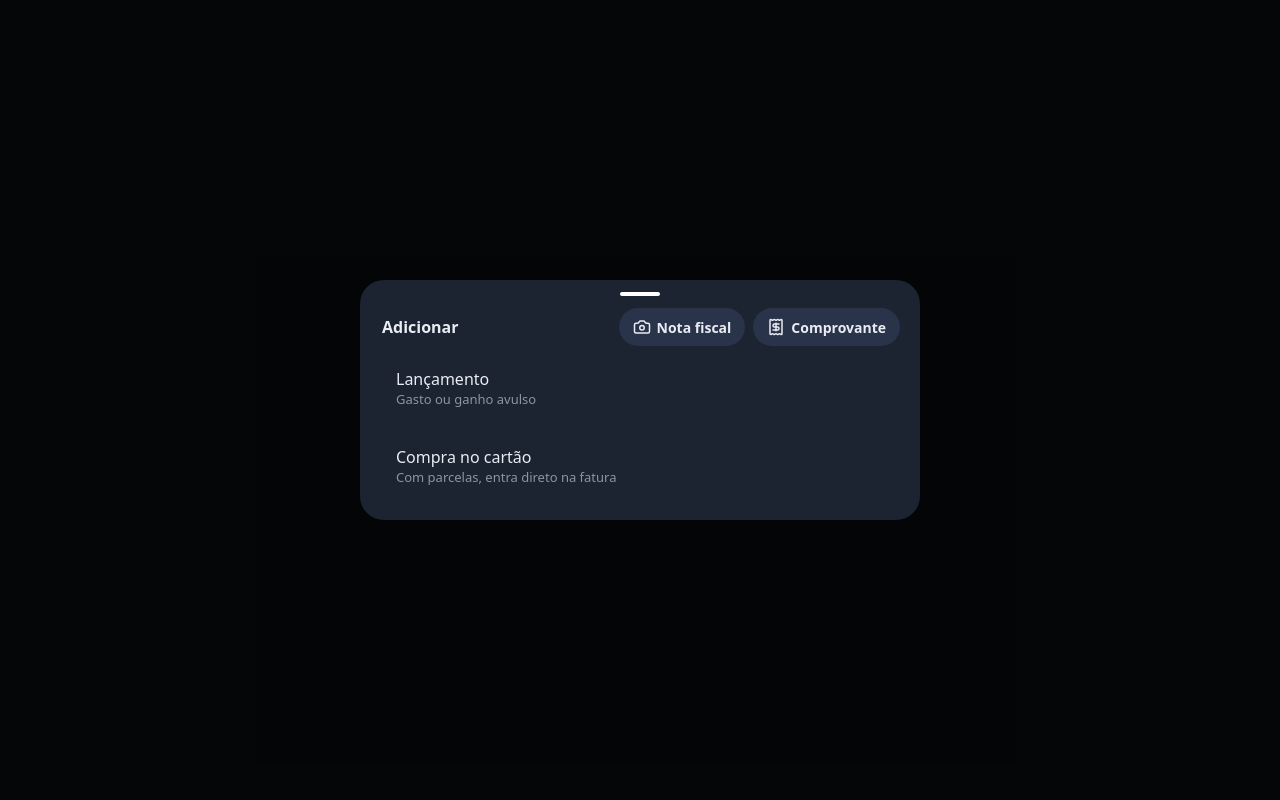
Test: 1 cartão ativo: "Compra no cartão" pula direto para o formulário
This screenshot has width=1280, height=800.
Click the text "Compra no cartão" at (464, 457), box [396,446,532,468]
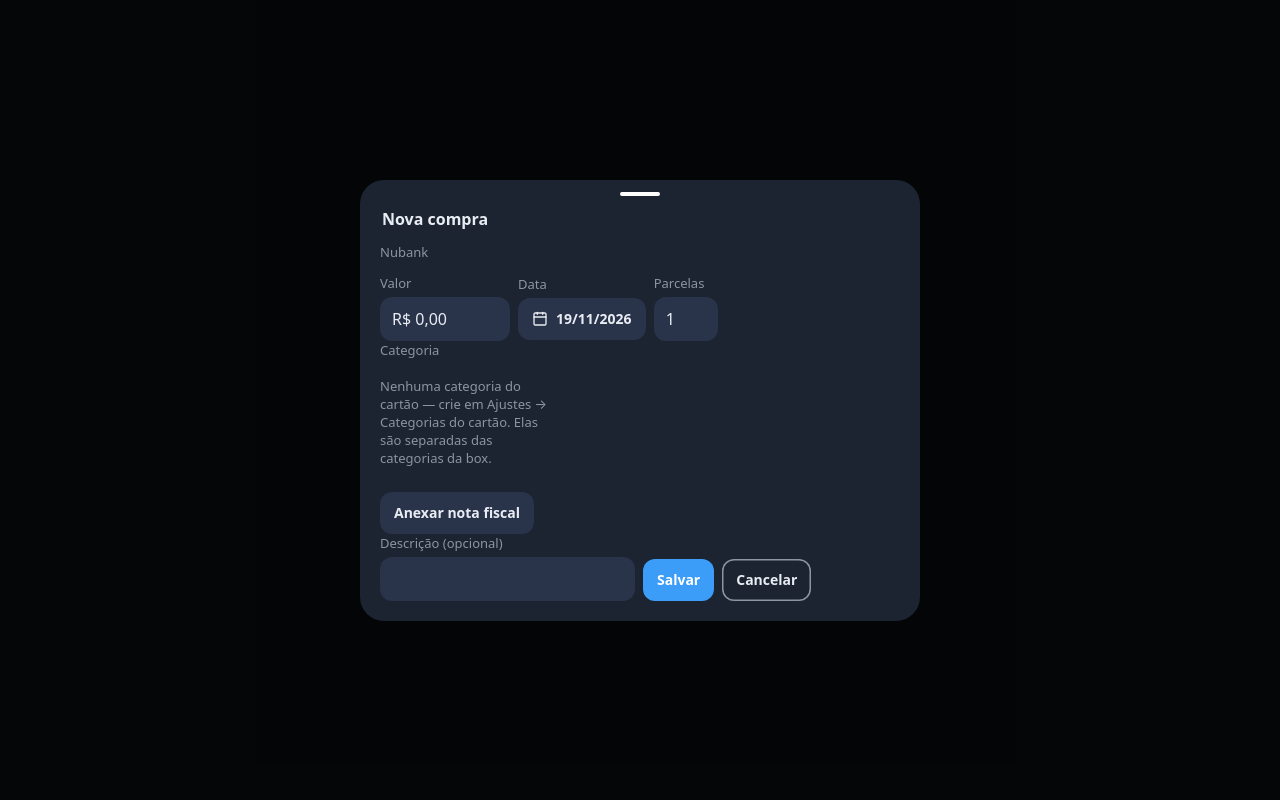
Now the heading "Nova compra" is shown, box [382,208,488,230]
